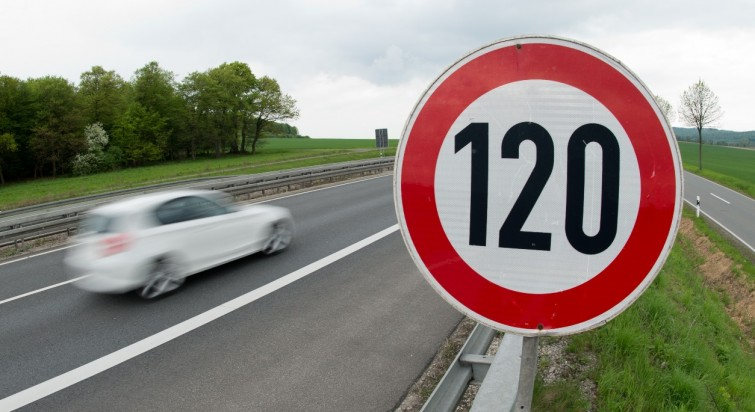Speed_limit_120km: (388, 36, 684, 335)
